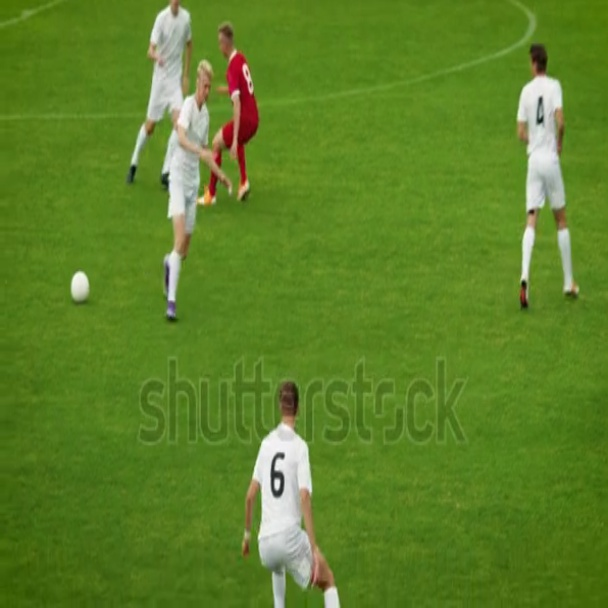ball: (72, 271, 90, 301)
